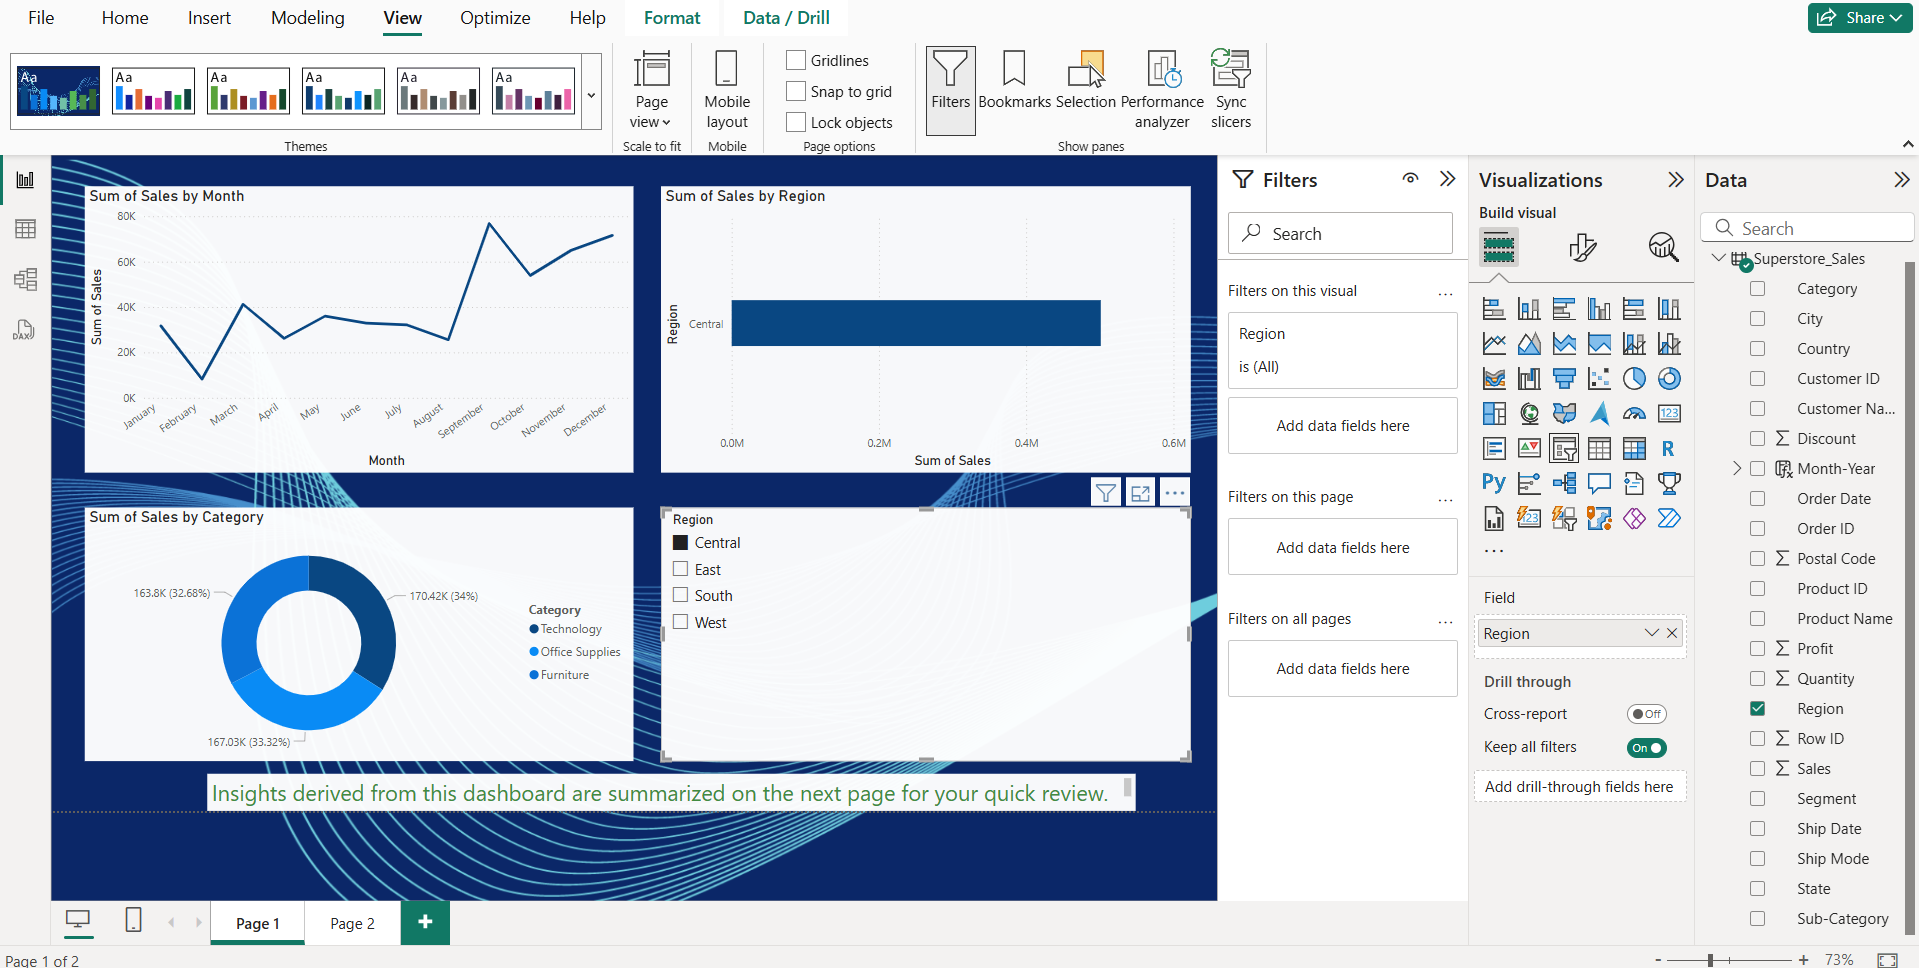

The page's visual inventory and layout, read from the dashboard file:
{"tool":"powerbi","page":{"name":"Page 1","canvas":[1280,720],"ordinal":0},"visuals":[{"type":"lineChart","fields":{"Y":["Sum(Superstore_Sales.Sales)"],"Category":["Superstore_Sales.Month-Year.Variation.Date Hierarchy.Month"]},"box":[37,34.3,602.4,314.2],"z":0},{"type":"barChart","fields":{"Y":["Sum(Superstore_Sales.Sales)"],"Category":["Superstore_Sales.Region"]},"box":[669.6,34.3,581.8,314.2],"z":1000},{"type":"donutChart","fields":{"Y":["Sum(Superstore_Sales.Sales)"],"Category":["Superstore_Sales.Category"]},"box":[37,387,602.4,278.6],"z":2000},{"type":"slicer","fields":{"Values":["Superstore_Sales.Region"]},"box":[669.6,387,581.8,278.6],"z":3000},{"type":"textbox","box":[171.5,679.2,1019.6,41.2],"z":3001}]}

Visuals, with their boxes on the page's 1280x720 design canvas (x1, y1, x2, y2). These are canvas units, not pixel positions in the 1919x968 screenshot, which may show the page scaled, cropped or inside an application window:
lineChart - Sum(Superstore_Sales.Sales) x Superstore_Sales.Month-Year.Variation.Date Hierarchy.Month: BBox(37, 34, 639, 348)
barChart - Sum(Superstore_Sales.Sales) x Superstore_Sales.Region: BBox(670, 34, 1251, 348)
donutChart - Sum(Superstore_Sales.Sales) x Superstore_Sales.Category: BBox(37, 387, 639, 666)
slicer - Superstore_Sales.Region: BBox(670, 387, 1251, 666)
textbox: BBox(172, 679, 1191, 720)
